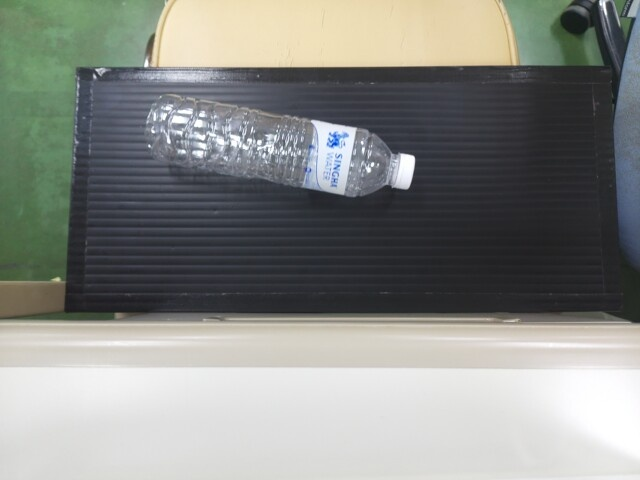plastic_bottle: (138, 97, 415, 198)
